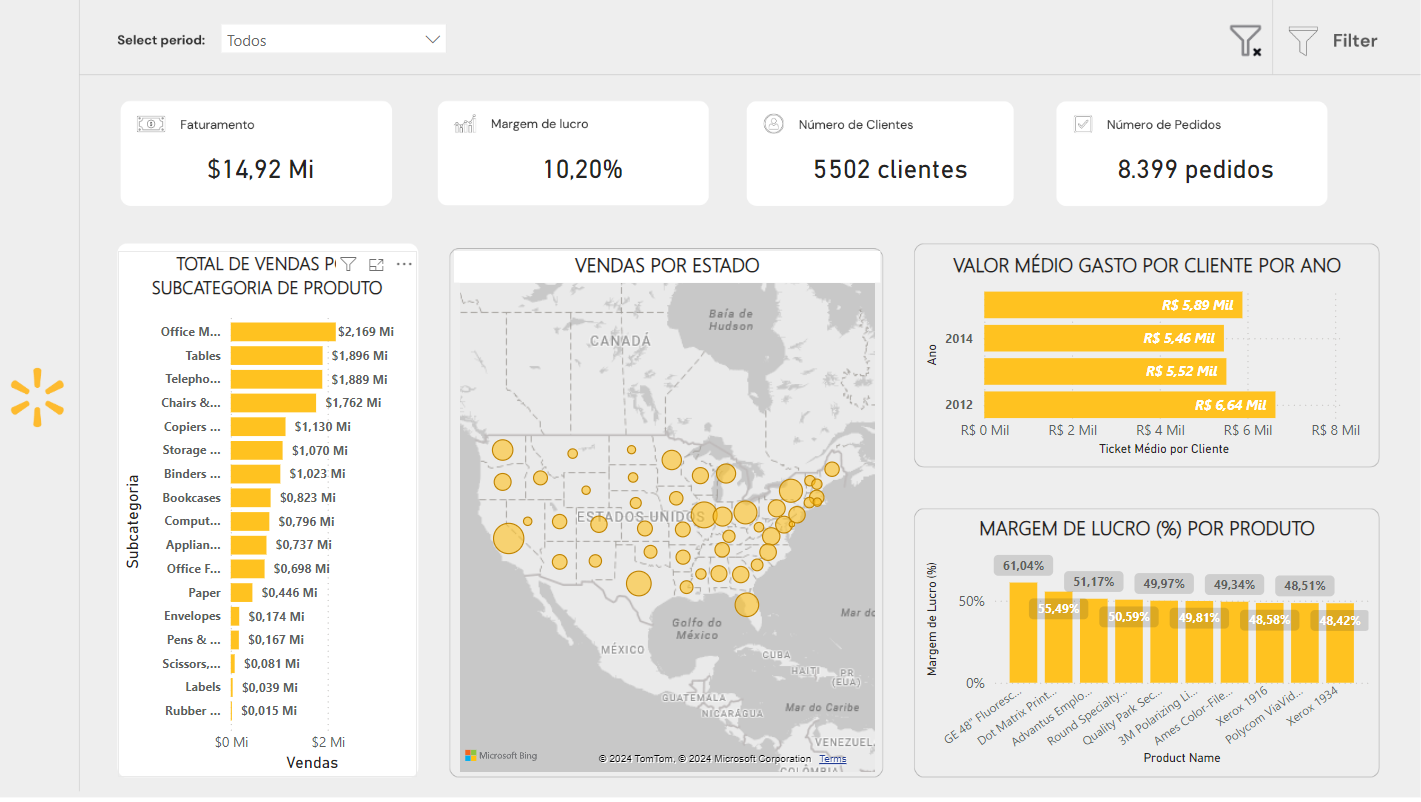

This screenshot's page, from the dashboard's own definition file:
{"tool":"powerbi","page":{"name":"Resumo(Versão Final)","canvas":[1280,720],"ordinal":0},"visuals":[{"type":"image","box":[4.6,0,1270.1,720.7],"z":500},{"type":"card","fields":{"Values":["walmart Retail Data.Faturamento"]},"box":[125.5,130.3,229.5,53.5],"z":1000},{"type":"card","fields":{"Values":["walmart Retail Data.Margem de Lucro (%)"]},"box":[411,130,229,54],"z":2000},{"type":"barChart","title":"TOTAL DE VENDAS POR SUBCATEGORIA DE PRODUTO","fields":{"Category":["walmart Retail Data.Product Sub-Category"],"Y":["Sum(walmart Retail Data.Sales)"]},"box":[114.8,230.5,264.6,466.9],"z":3000},{"type":"map","title":"VENDAS POR ESTADO","fields":{"Size":["Sum(walmart Retail Data.Sales)"],"Category":["walmart Retail Data.State"]},"box":[412.4,230.5,378.4,466.9],"z":4000},{"type":"barChart","title":"VALOR MÉDIO GASTO POR CLIENTE POR ANO","fields":{"Category":["walmart Retail Data.Order Date.Variation.Hierarquia de datas.Ano"],"Y":["walmart Retail Data.Ticket Médio por Cliente"]},"box":[825.7,230.7,403,186.1],"z":5000},{"type":"clusteredColumnChart","title":"MARGEM DE LUCRO (%) POR PRODUTO","fields":{"Y":["walmart Retail Data.Margem de Lucro (%)"],"Category":["walmart Retail Data.Product Name"]},"box":[825.8,464,402.7,226.6],"z":6000},{"type":"slicer","fields":{"Values":["walmart Retail Data.Order Date.Variation.Hierarquia de datas.Ano"]},"box":[195,19,221,49],"z":6125},{"type":"actionButton","box":[1094,24,43,40],"z":6250},{"type":"actionButton","box":[1146.7,24.3,100.2,39.9],"z":6500},{"type":"card","fields":{"Values":["walmart Retail Data.Clientes em Todos os Anos"]},"box":[683.6,130.1,230,53.1],"z":8000},{"type":"card","fields":{"Values":["walmart Retail Data.Número de Pedidos"]},"box":[955.1,130.3,229.5,53.5],"z":9000}]}

Visuals, with their boxes in screenshot pixels (x1, y1, x2, y2), scaled from the page's 1280x720 canvas onto the 1421x802 screenshot:
image: rect(5, 0, 1415, 801)
card - walmart Retail Data.Faturamento: rect(139, 145, 394, 205)
card - walmart Retail Data.Margem de Lucro (%): rect(456, 145, 710, 205)
"TOTAL DE VENDAS POR SUBCATEGORIA DE PRODUTO" barChart: rect(127, 257, 421, 777)
"VENDAS POR ESTADO" map: rect(458, 257, 878, 777)
"VALOR MÉDIO GASTO POR CLIENTE POR ANO" barChart: rect(917, 257, 1364, 464)
"MARGEM DE LUCRO (%) POR PRODUTO" clusteredColumnChart: rect(917, 517, 1364, 769)
slicer - walmart Retail Data.Order Date.Variation.Hierarquia de datas.Ano: rect(216, 21, 462, 76)
actionButton: rect(1215, 27, 1262, 71)
actionButton: rect(1273, 27, 1384, 72)
card - walmart Retail Data.Clientes em Todos os Anos: rect(759, 145, 1014, 204)
card - walmart Retail Data.Número de Pedidos: rect(1060, 145, 1315, 205)
